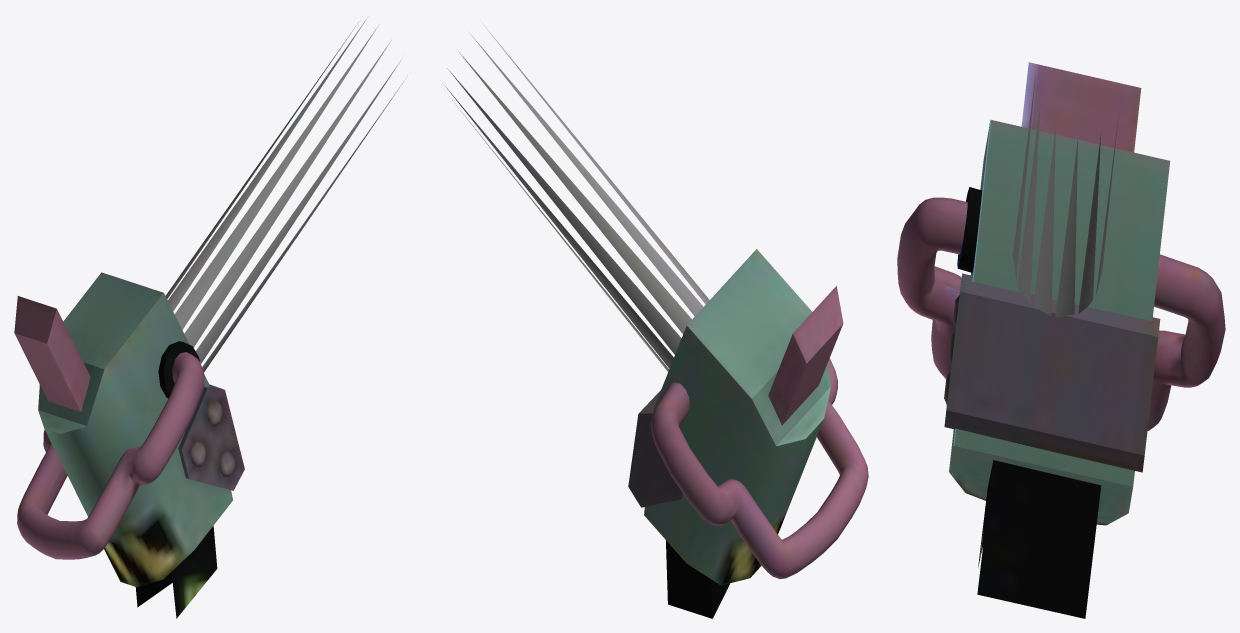
File: j3ff_upperarm_r.glb
3 renders of one model, left to right at view 1: azimuth 30°, elevation 25°; view 2: azimuth 150°, elevation 25°; view 3: azimuth 270°, elevation 25°, orthographic. The views are drawn at different scales.
Visible parts, largest first — view 1: j3ff; view 2: j3ff; view 3: j3ff.
Boxes of the visible parts, x1,y1,x2,y2 form: j3ff: (14, 19, 403, 618); j3ff: (442, 23, 868, 618); j3ff: (897, 62, 1225, 618).
Size of the model in its own units: 19.07 by 26.08 by 10.56.
1 material, 1 textured.
